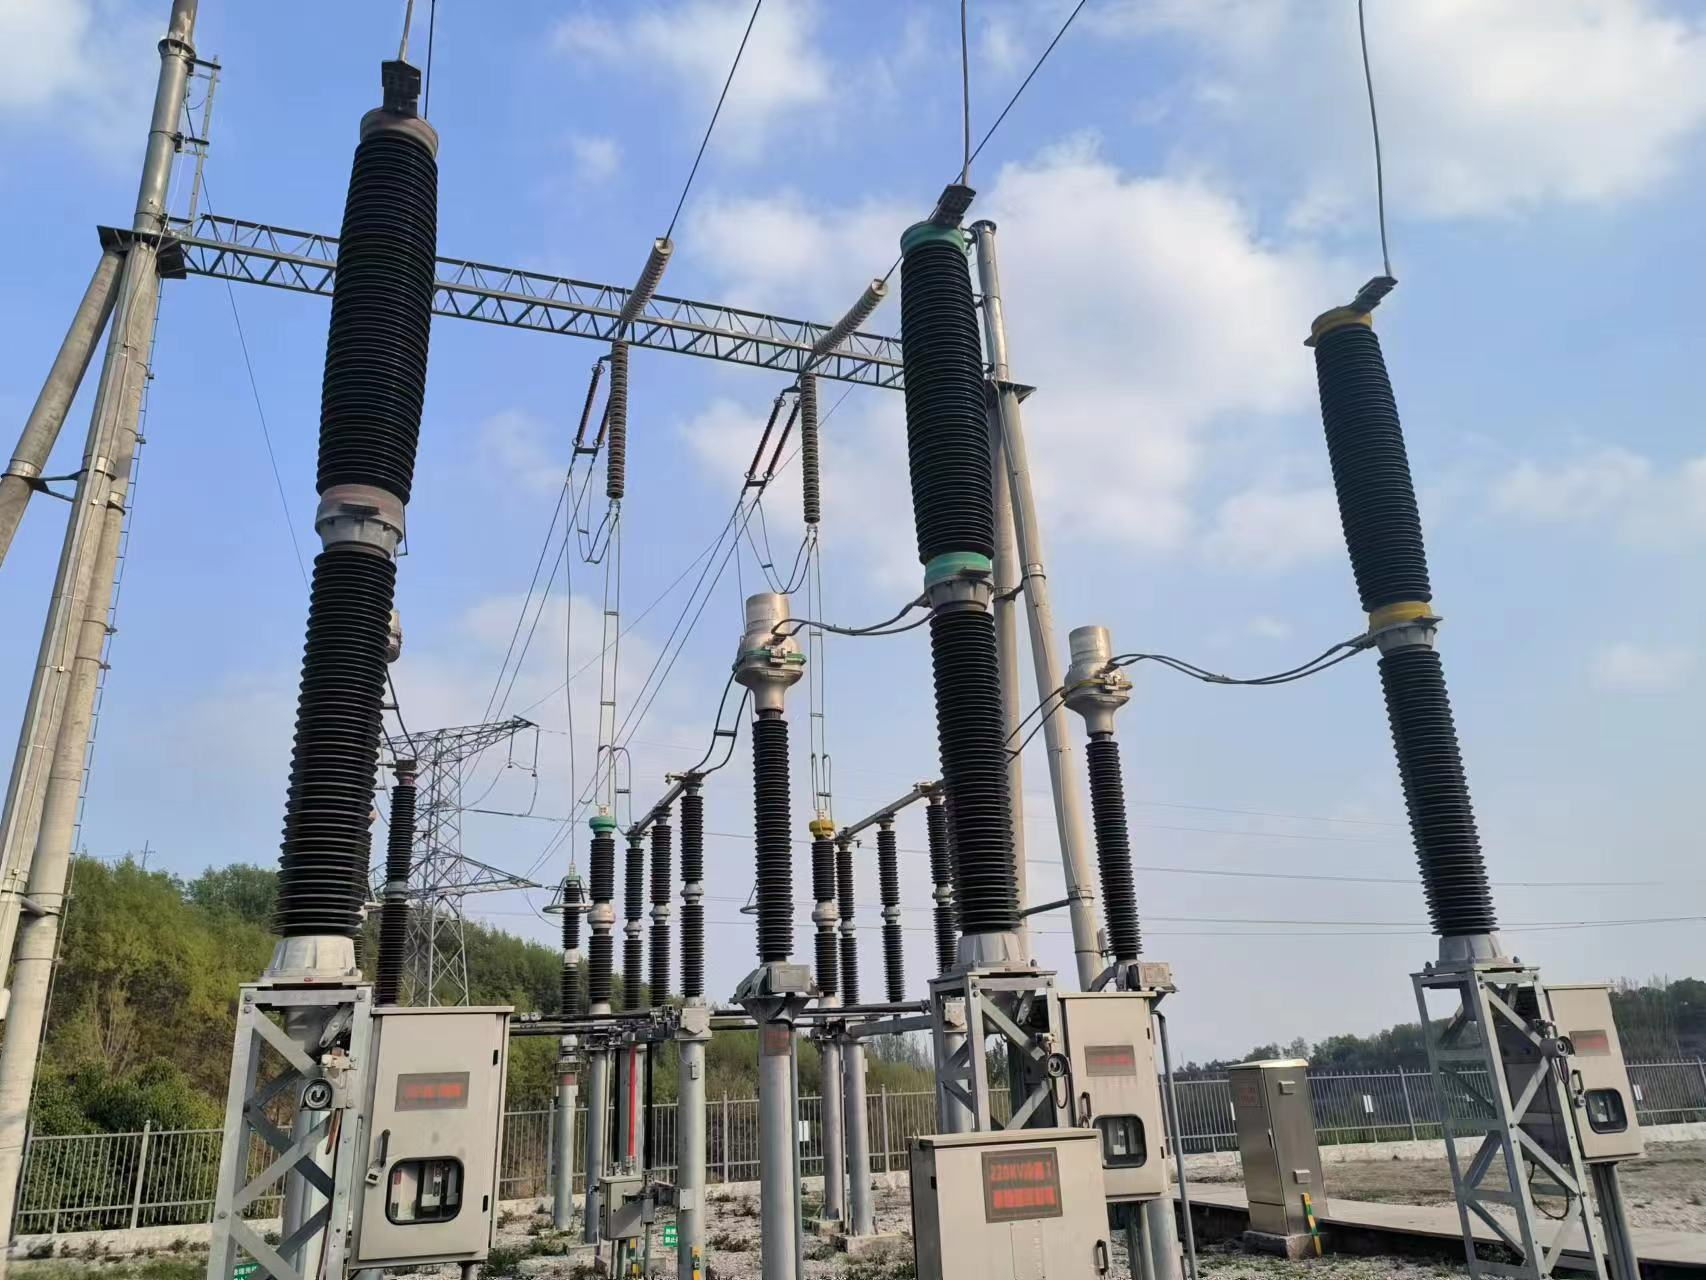Circuit-breaker: (255, 55, 457, 938), (1303, 270, 1508, 938), (899, 179, 1020, 930)
